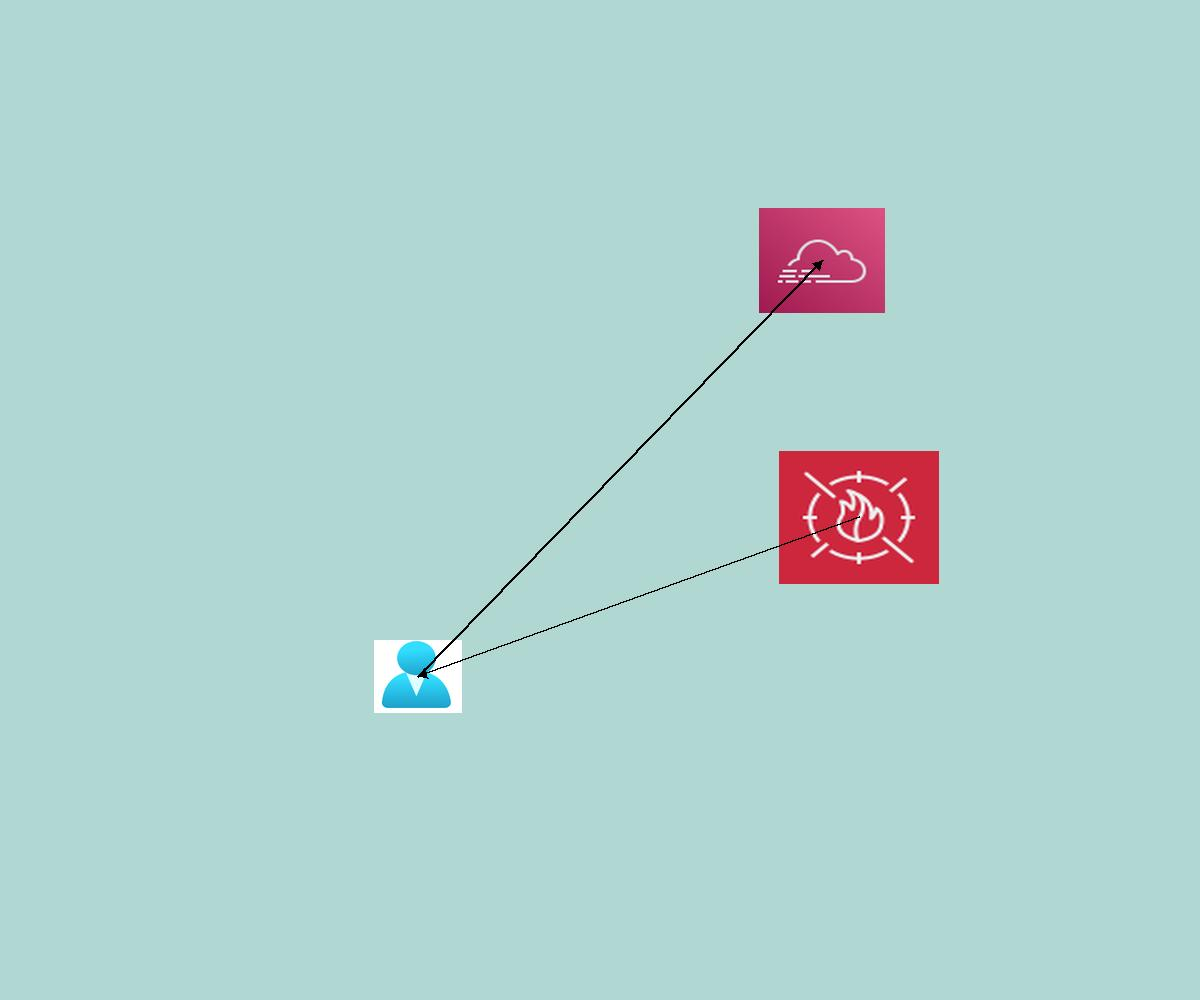AWS-CloudTrail: (759, 208, 885, 313)
AWS-WAF: (779, 451, 939, 584)
Azure_users: (374, 640, 462, 713)
